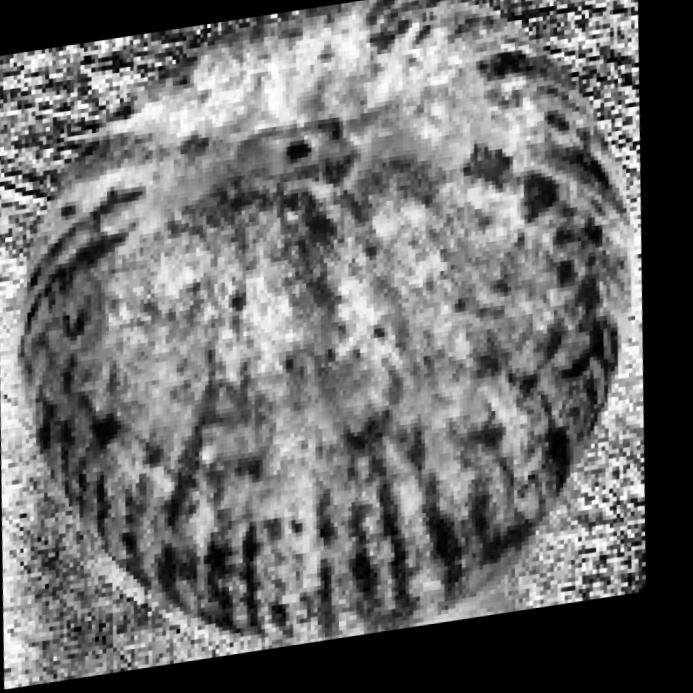qualityHazelnut: (0, 0, 693, 689)
